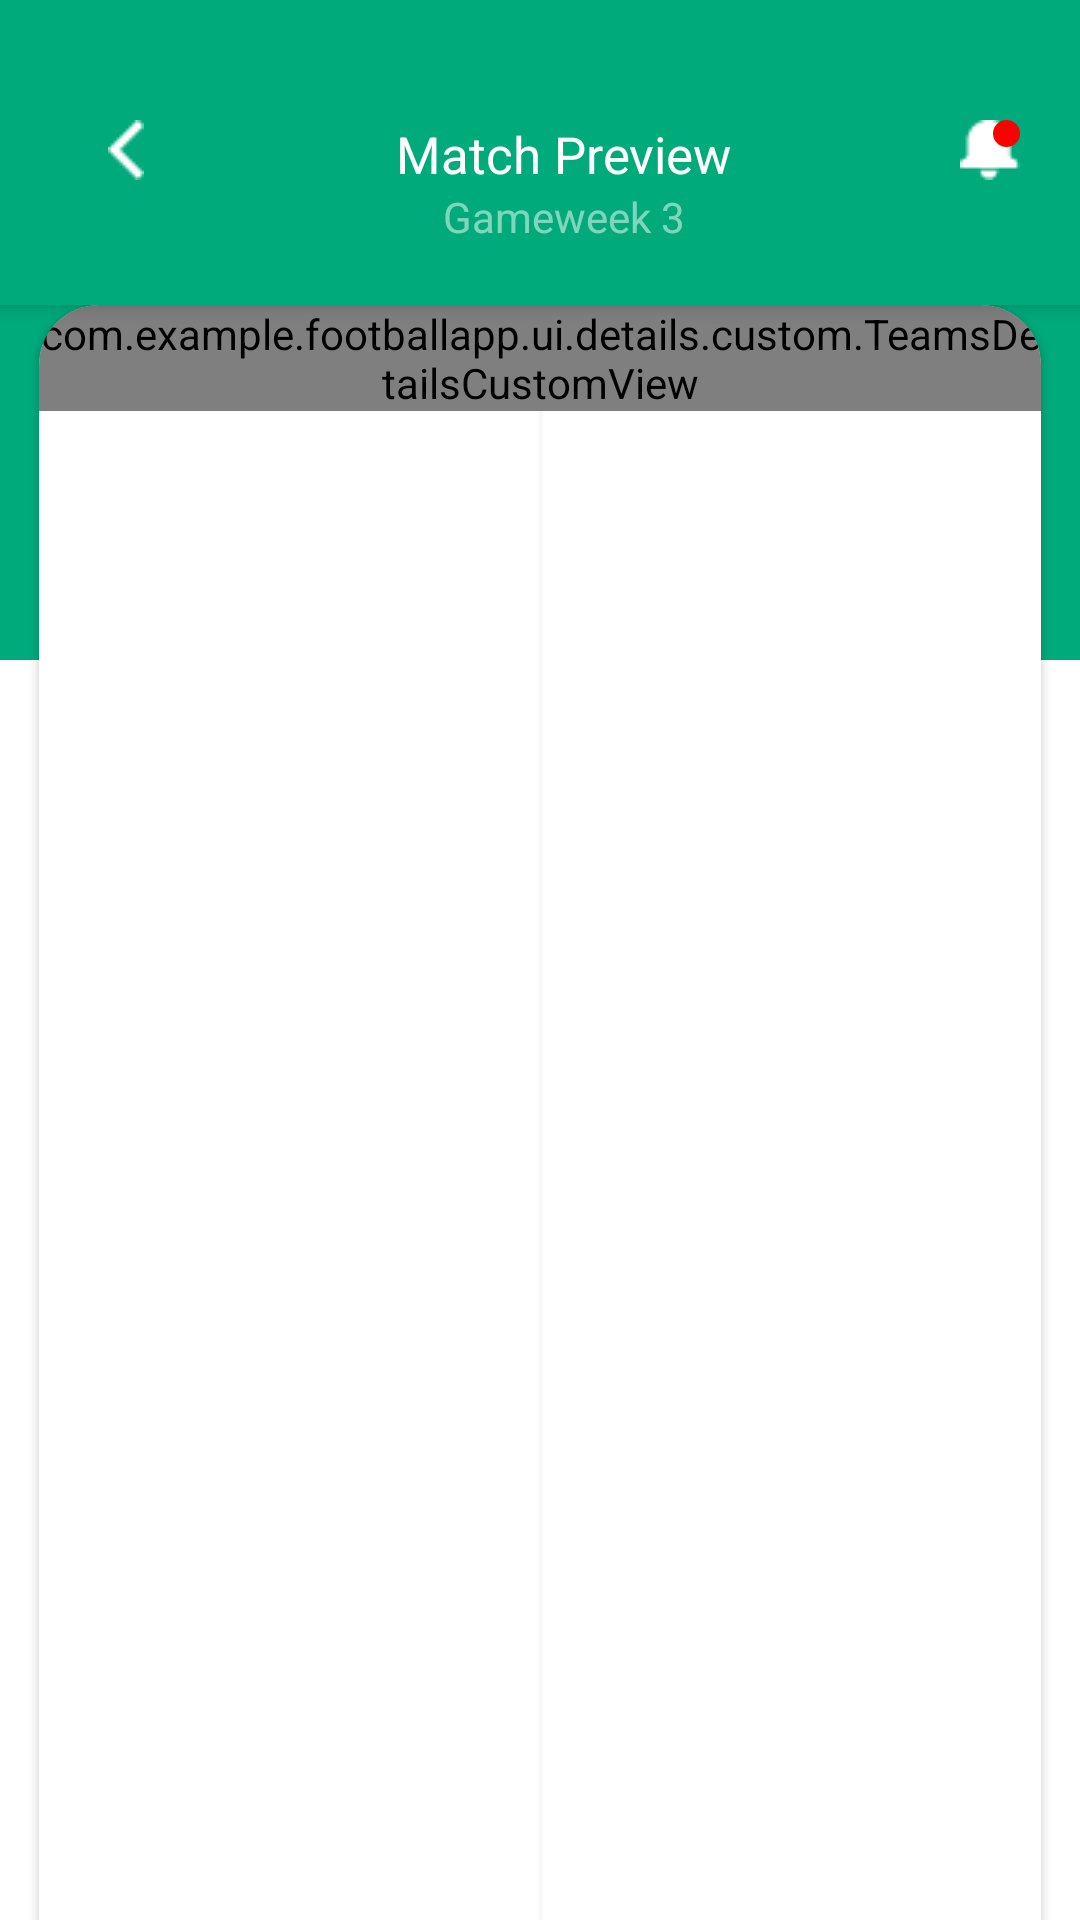

Point at icon controls on the screen. Image size 1080×1920, points as [x,y].
back arrow: [126,150]
